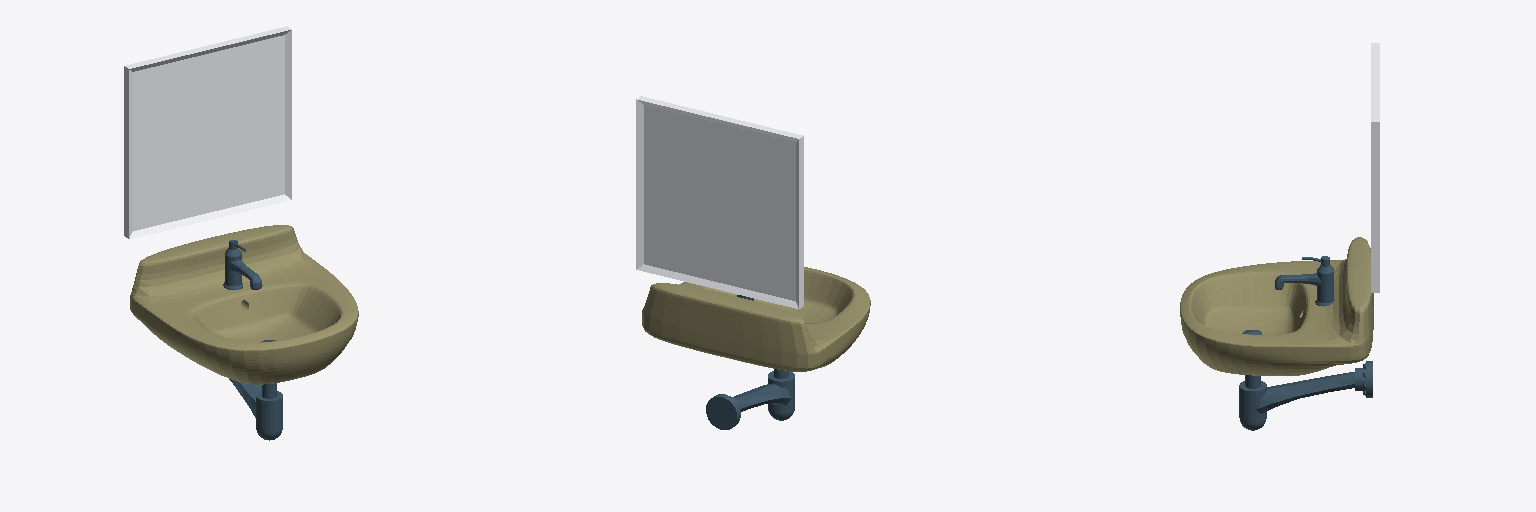
File: 洗手台offical.obj
3 renders of one model, left to right at view 1: azimuth 30°, elevation 25°; view 2: azimuth 150°, elevation 25°; view 3: azimuth 270°, elevation 25°, orthographic.
Parts seen in each view (by area): view 1: 镜子, 洗手台盆底, 洗手台支撑1, 水龙头主体; view 2: 镜子, 洗手台盆底, 固定2, 洗手台支架2, 洗手台支撑1; view 3: 洗手台盆底, 镜子, 洗手台支架2, 洗手台支撑1, 水龙头主体.
Part boxes in pixels (bbox=[...]): 镜子: bbox=[124, 26, 291, 239]; 洗手台盆底: bbox=[130, 225, 358, 384]; 洗手台支撑1: bbox=[256, 391, 282, 440]; 水龙头主体: bbox=[223, 248, 242, 289]; 镜子: bbox=[636, 96, 803, 308]; 洗手台盆底: bbox=[642, 267, 870, 371]; 固定2: bbox=[706, 394, 740, 429]; 洗手台支架2: bbox=[734, 384, 790, 411]; 洗手台支撑1: bbox=[768, 371, 794, 420]; 洗手台盆底: bbox=[1180, 237, 1373, 375]; 镜子: bbox=[1371, 43, 1379, 292]; 洗手台支架2: bbox=[1256, 372, 1354, 413]; 洗手台支撑1: bbox=[1239, 381, 1266, 430]; 水龙头主体: bbox=[1315, 265, 1334, 306].
Bounding box in the file's own units: 4.39 × 8.23 × 4.31.